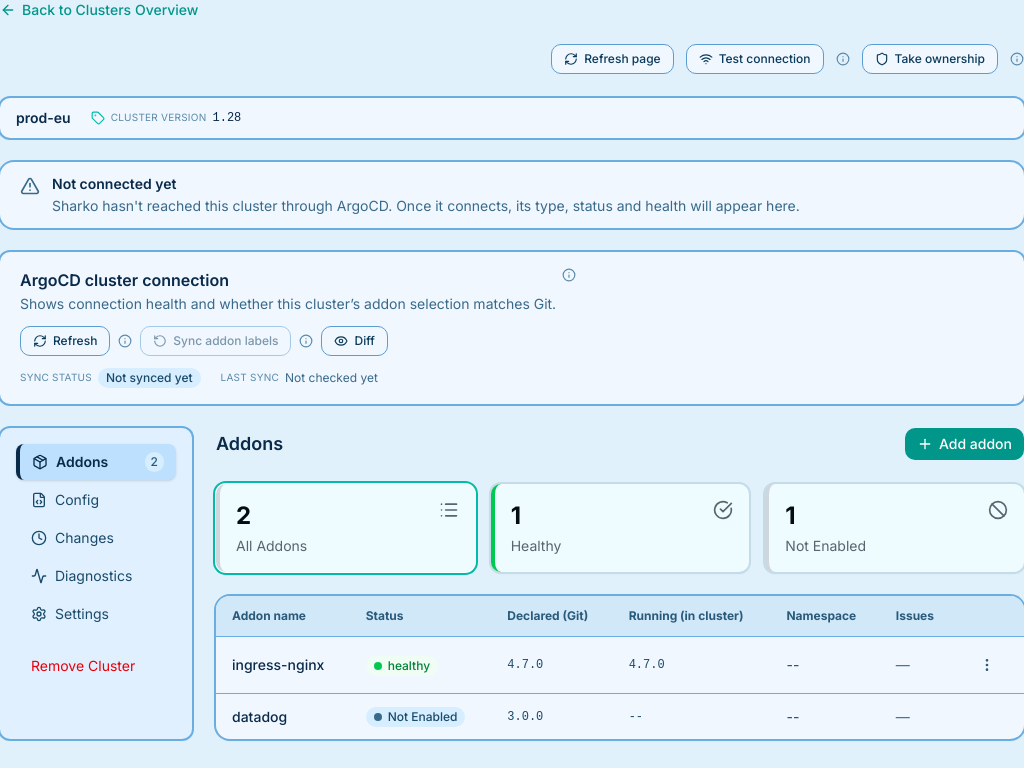
Scenario: ClusterDetail — addon_secrets_ready pre-warn (V2-cleanup-88.5) › warns inline when the cluster has no resolvable credentials and the staged addon needs secrets
This screenshot has width=1024, height=768.
Expected: the heading "prod-eu" is shown, [16,108,71,128]
Click the button with test id "manage-addons-enable-btn" at (964, 444), box [905,428,1023,460]
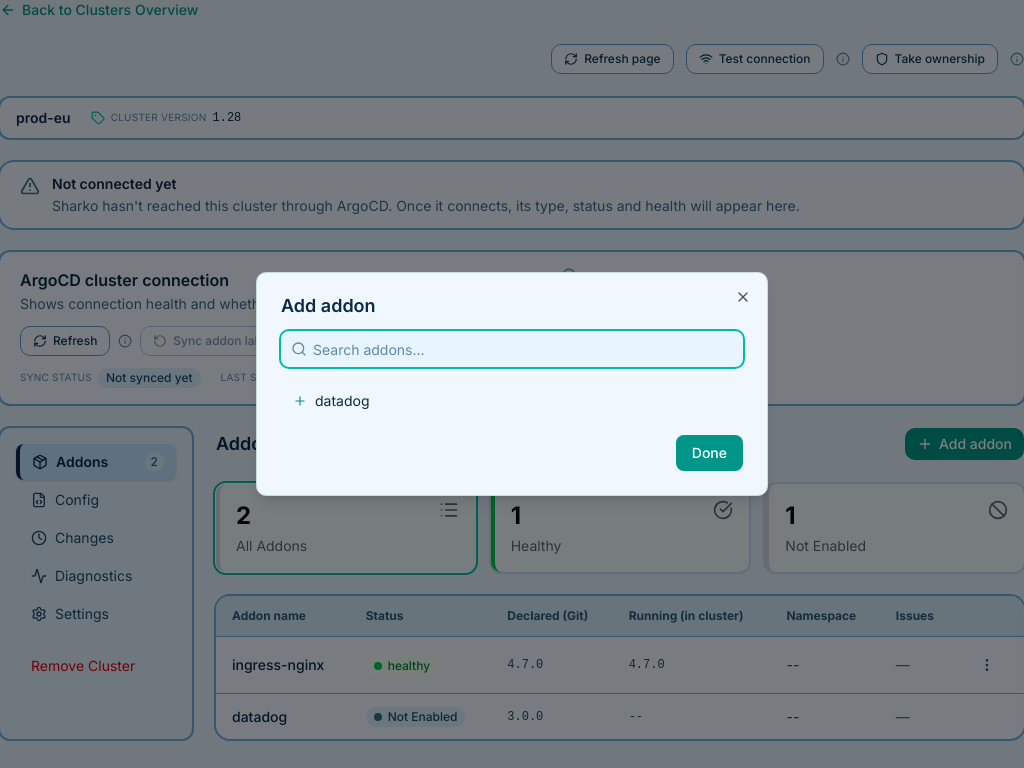
Result: the button with test id "addon-picker-item-datadog" is shown
Click the button with test id "addon-picker-item-datadog" at (342, 400), box [281,383,743,419]
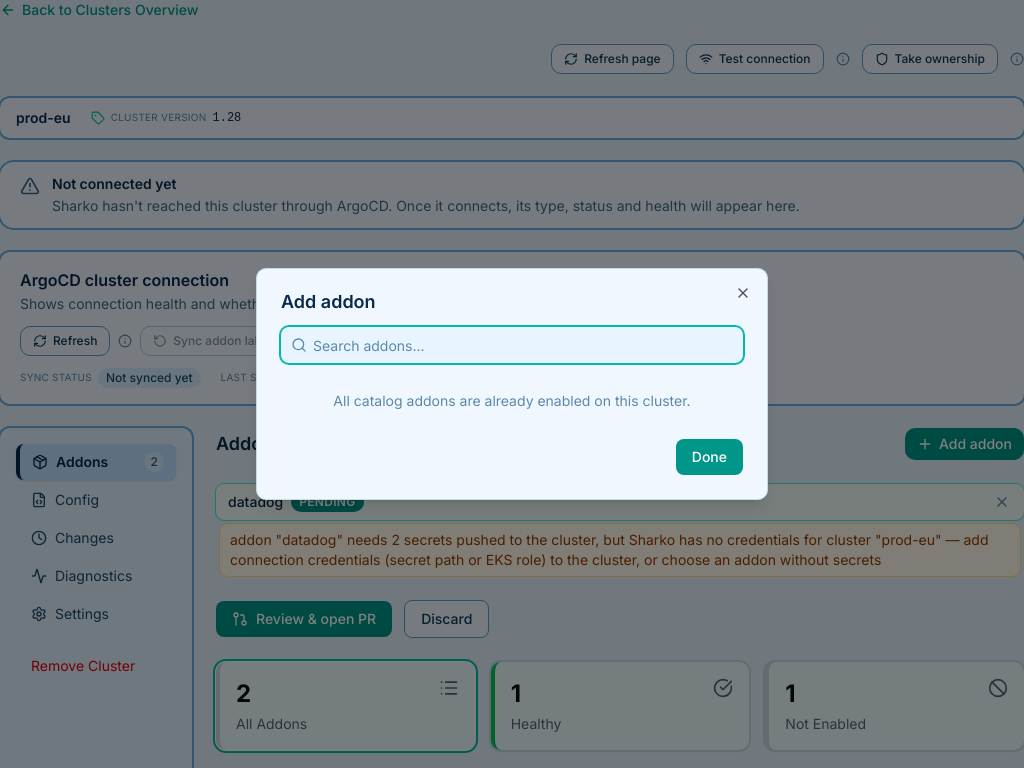
Result: the text with test id "manage-addon-secret-warning-datadog" is shown at [220,524,1020,576]
Result: the text "addon \"datadog\" needs 2 secrets pushed to the cluster, but Sharko has no credentials for cluster \"prod-eu\" — add connect" is shown at [230,531,988,568]
